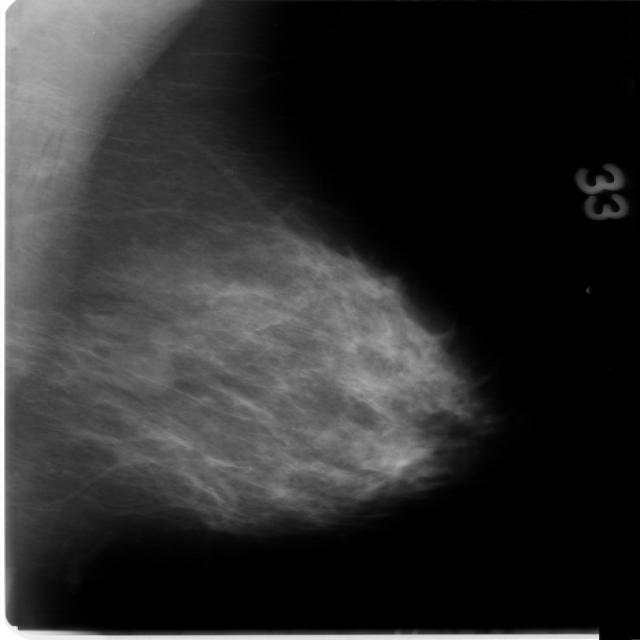tumour: (114, 348, 175, 398)
